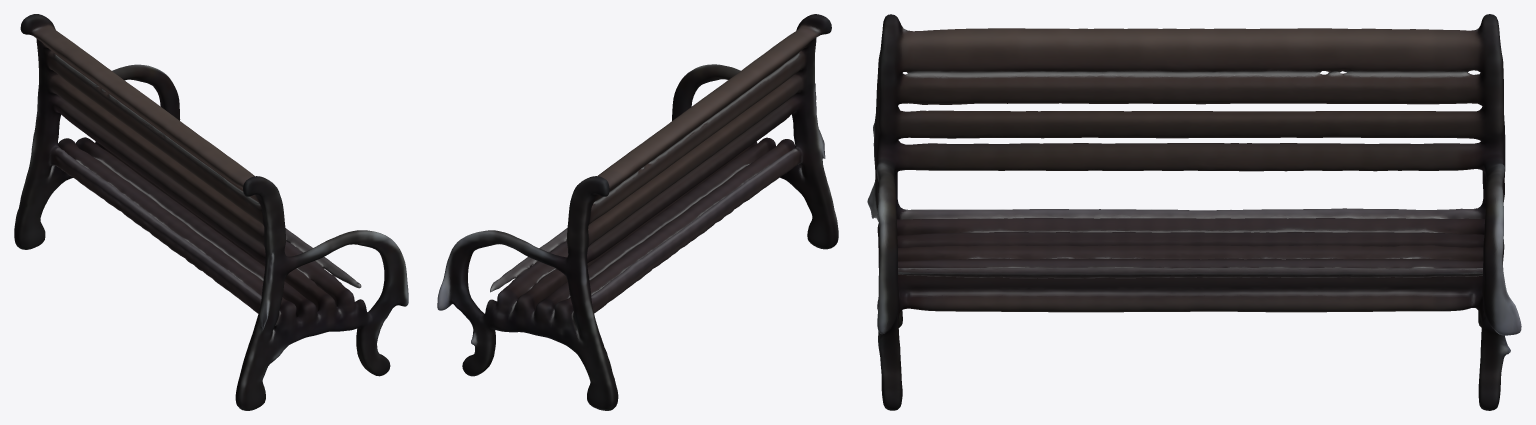
File: bench1.glb
The picture shows the model from 3 angles, left to right: view 1: azimuth 30°, elevation 25°; view 2: azimuth 150°, elevation 25°; view 3: azimuth 270°, elevation 25°; orthographic projection. The views are drawn at different scales.
Parts seen in each view (by area): view 1: world; view 2: world; view 3: world.
Boxes of the visible parts, <box> form: world: <box>14,14,408,410</box>; world: <box>437,14,838,410</box>; world: <box>867,14,1521,410</box>.
Bounding box in the file's own units: 0.2155 × 0.284 × 0.536.
Materials: 1 (1 with a texture image).
